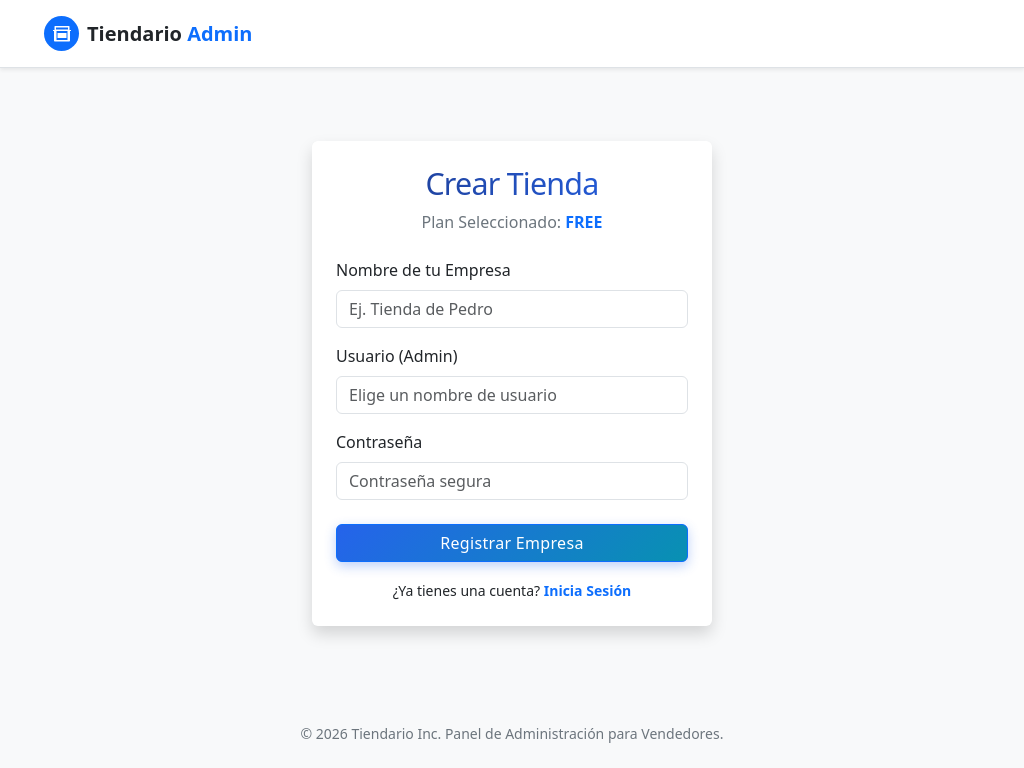
it: RegisterPage › should show error message on registration failure
Type "Mi Tienda" into the field labelled "Nombre de tu Empresa".
click(512, 309); type("Mi Tienda")  # box [336, 290, 688, 328]
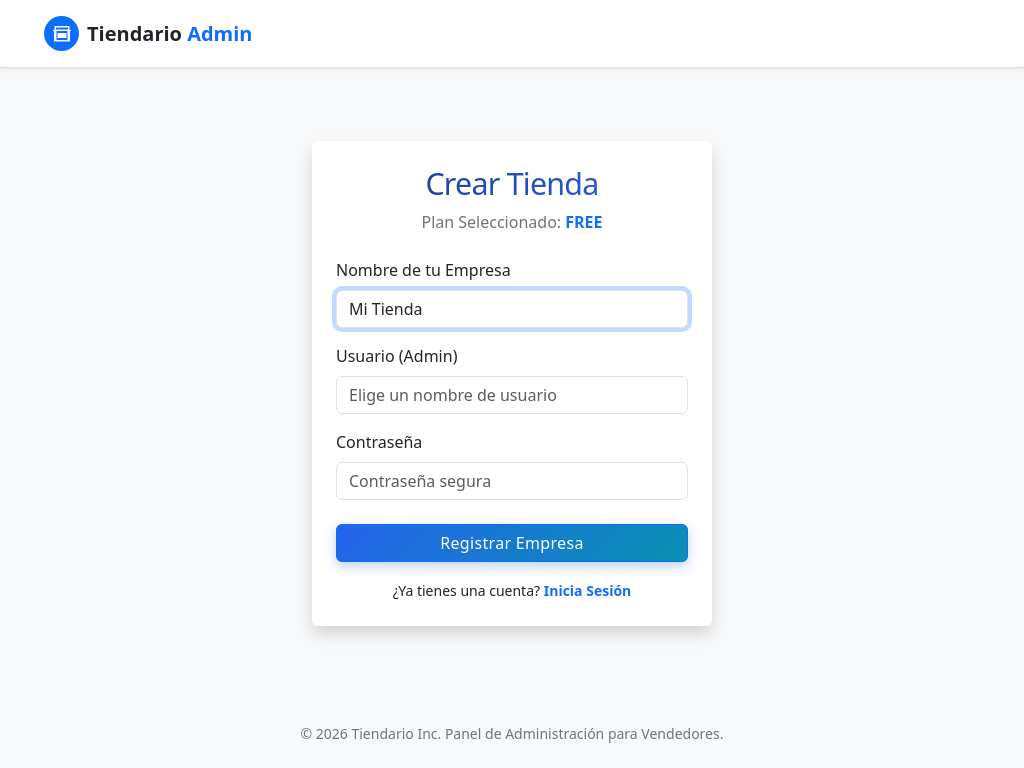
Type "existinguser" into the field labelled "Usuario (Admin)".
click(512, 395); type("existinguser")  # box [336, 376, 688, 414]
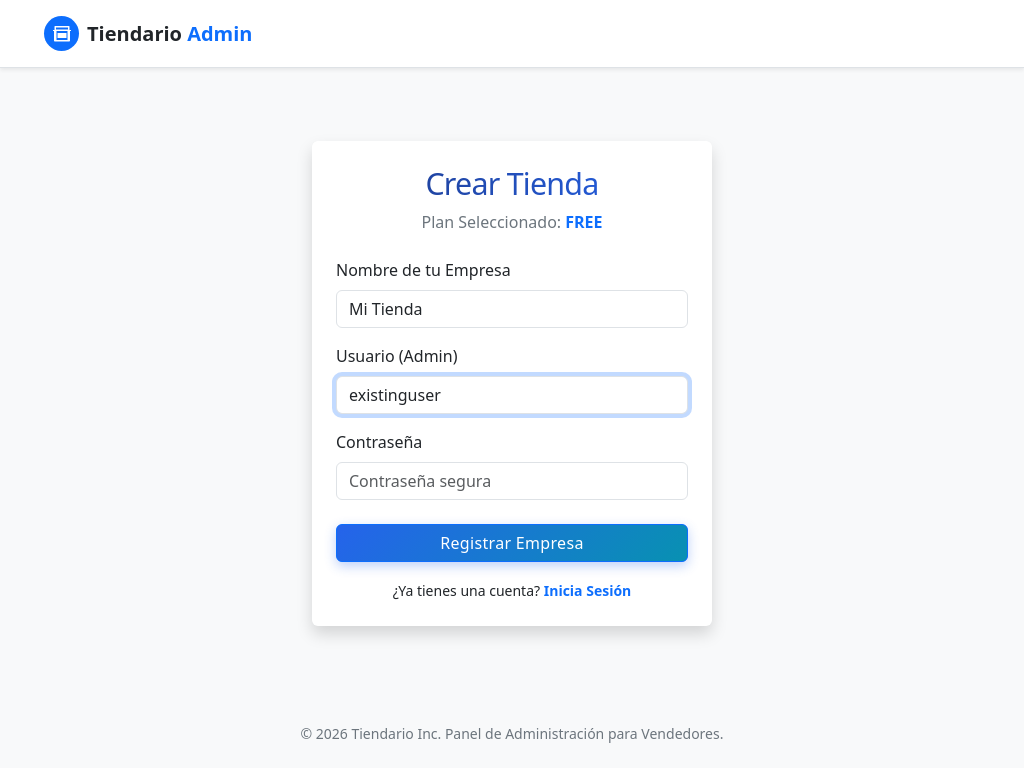
Type "password123" into the password field labelled "Contraseña".
click(512, 481); type("password123")  # box [336, 462, 688, 500]
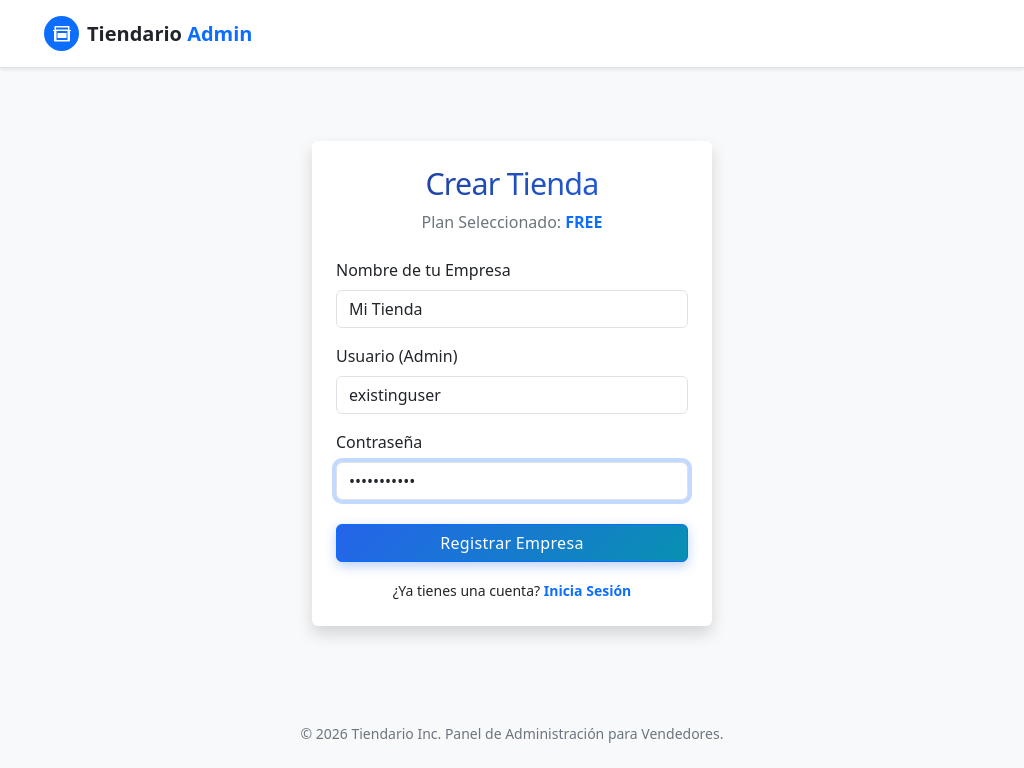
Click the button "Registrar Empresa".
click(512, 543)  # box [336, 524, 688, 562]
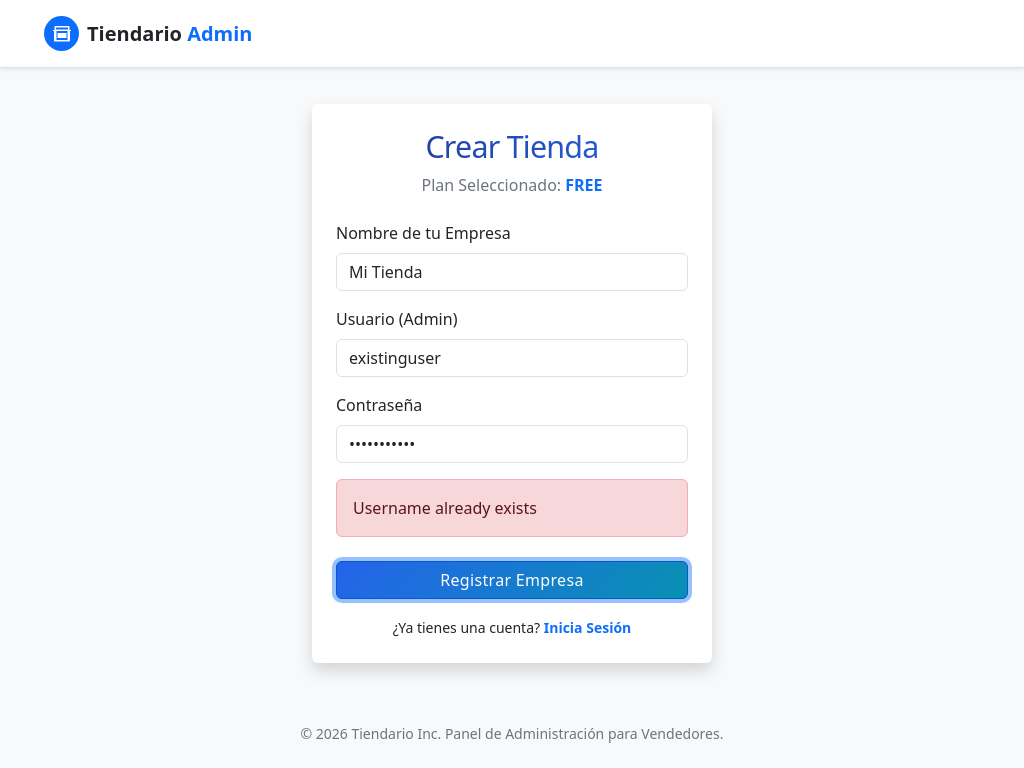
Expected: the text "Username already exists" is shown, [336, 479, 688, 537]
